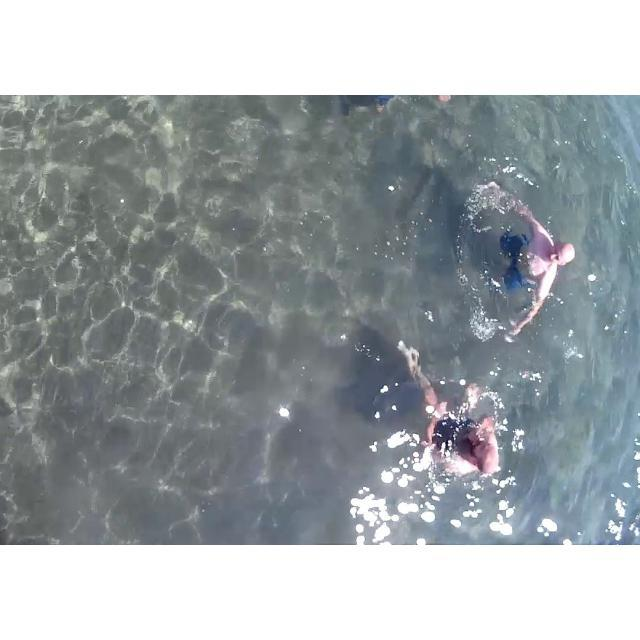human: (378, 327, 517, 492), (481, 172, 576, 347), (322, 95, 459, 125)
